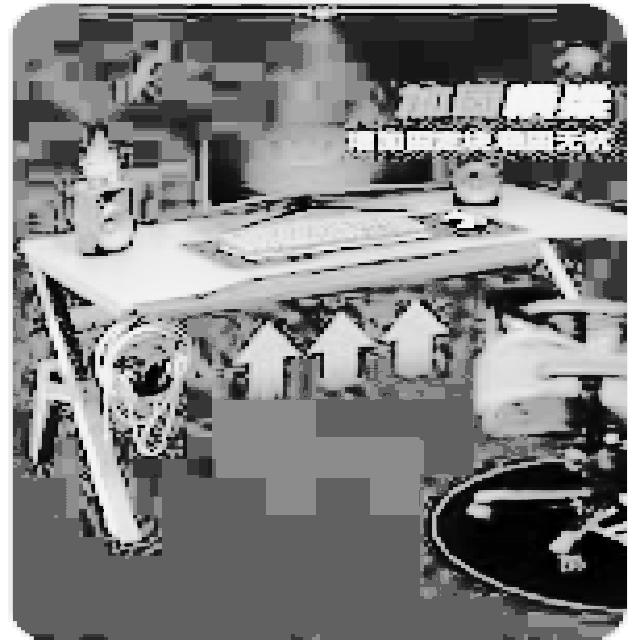table: (17, 181, 619, 543)
